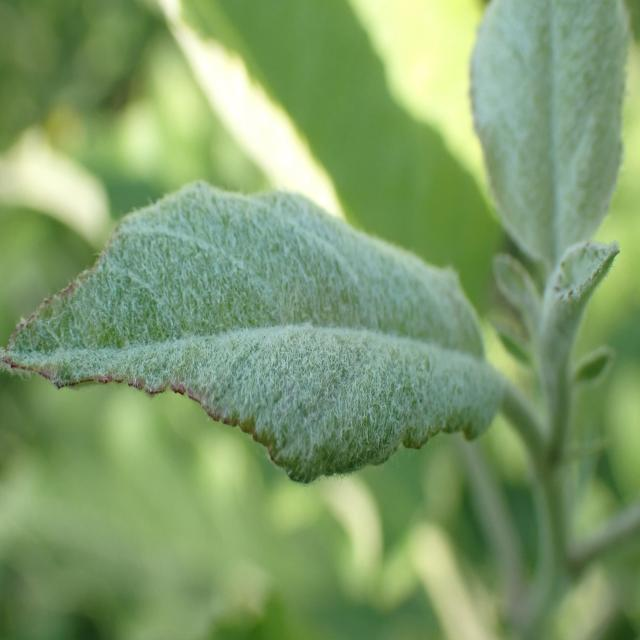Powdery_mildew: (0, 163, 516, 506), (451, 0, 623, 412)
